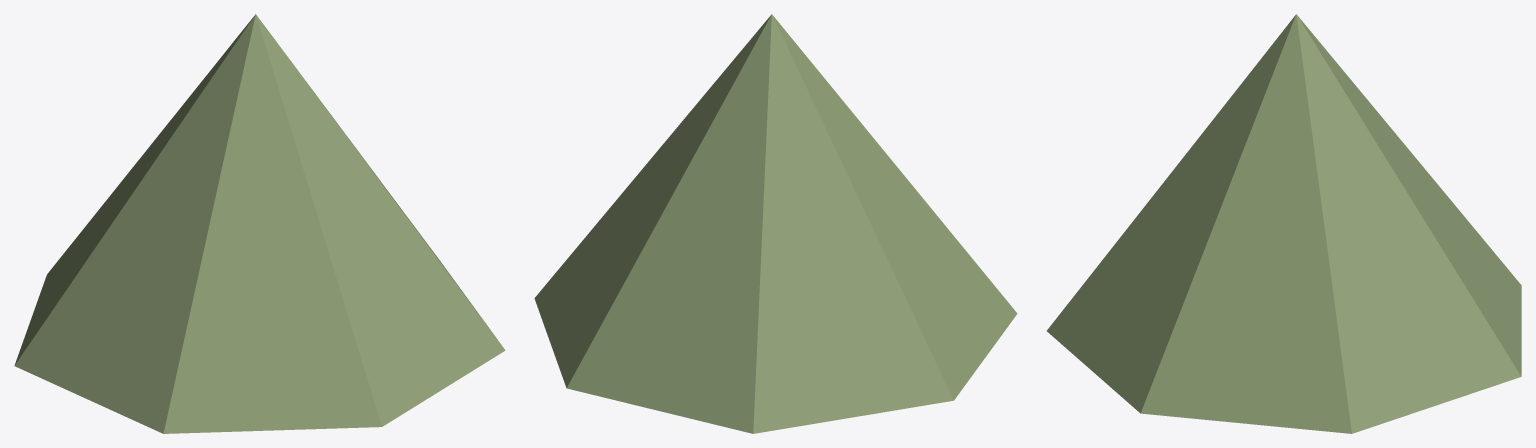
The model's file is hill-91a277.glb.
3 views of the same model, side by side, from view 1: azimuth 30°, elevation 25°; view 2: azimuth 150°, elevation 25°; view 3: azimuth 270°, elevation 25° (orthographic).
Visible parts, largest first — view 1: hill-91a277; view 2: hill-91a277; view 3: hill-91a277.
Boxes of the visible parts, x1,y1,x2,y2 form: hill-91a277: [14, 14, 505, 433]; hill-91a277: [534, 14, 1017, 433]; hill-91a277: [1047, 14, 1521, 433].
Size of the model in its own units: 1.95 by 1.4 by 1.9.
